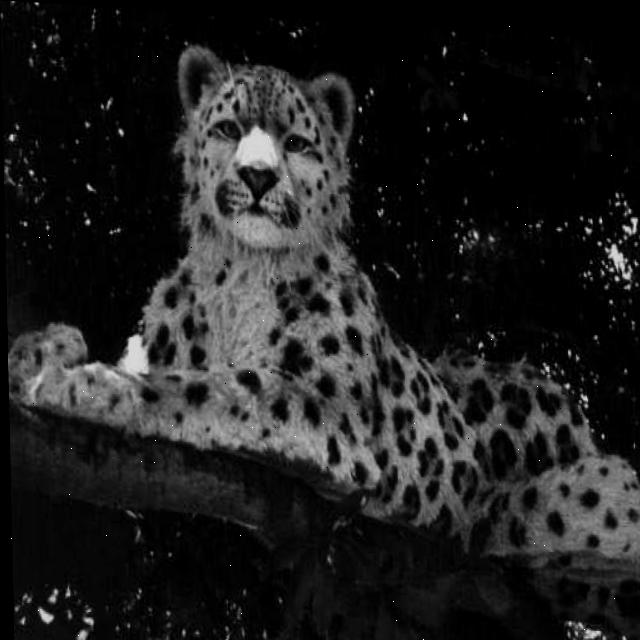Leopard: (124, 48, 640, 575)
